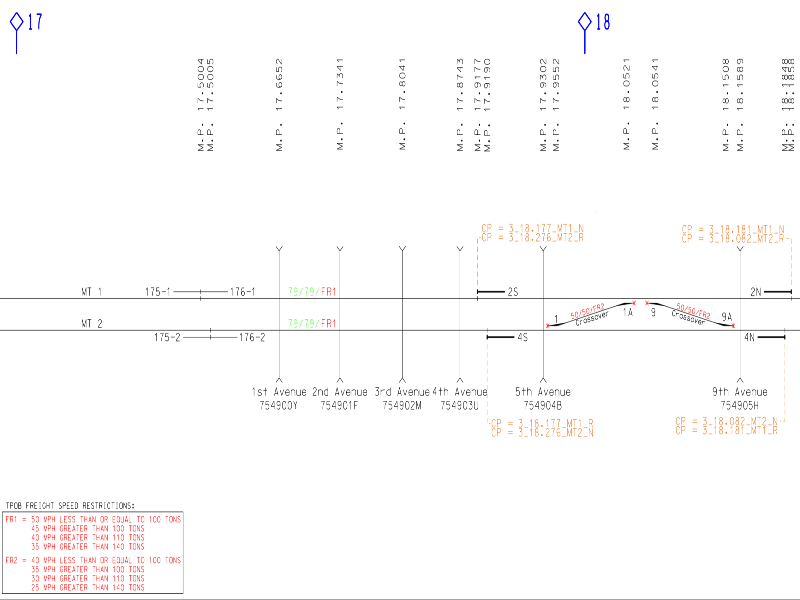boundary: (267, 242, 295, 389), (325, 240, 353, 387), (389, 241, 417, 388), (446, 241, 474, 388), (529, 239, 557, 386), (727, 241, 755, 388)
crossover: (544, 316, 571, 335), (613, 294, 640, 313), (645, 296, 672, 315), (716, 316, 743, 335)
track: (1, 291, 800, 307), (1, 323, 800, 339)
